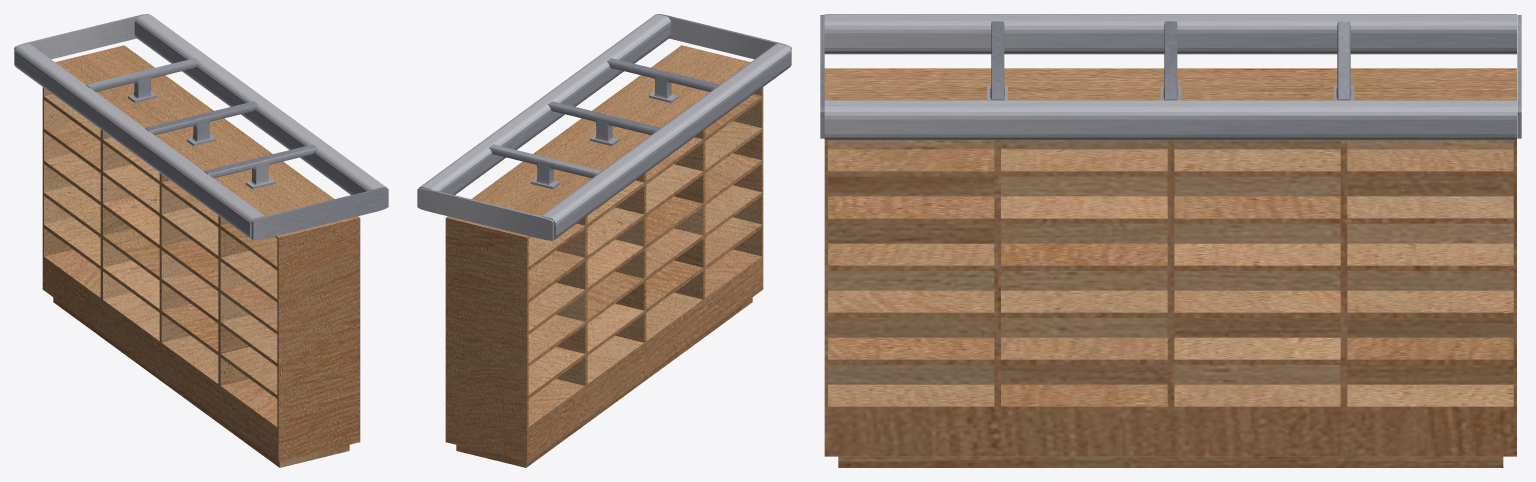
The model's file is ShelfLamp6x4.fbx.
3 renders of one model, left to right at view 1: azimuth 30°, elevation 25°; view 2: azimuth 150°, elevation 25°; view 3: azimuth 270°, elevation 25°, orthographic. The views are drawn at different scales.
Parts seen in each view (by area): view 1: ShelfLamp6x4; view 2: ShelfLamp6x4; view 3: ShelfLamp6x4.
Part boxes in pixels (x1=…): ShelfLamp6x4: x1=14, y1=14, x2=388, y2=467; ShelfLamp6x4: x1=417, y1=14, x2=791, y2=467; ShelfLamp6x4: x1=820, y1=14, x2=1521, y2=467.
Size of the model in its own units: 272 by 488 by 810.
